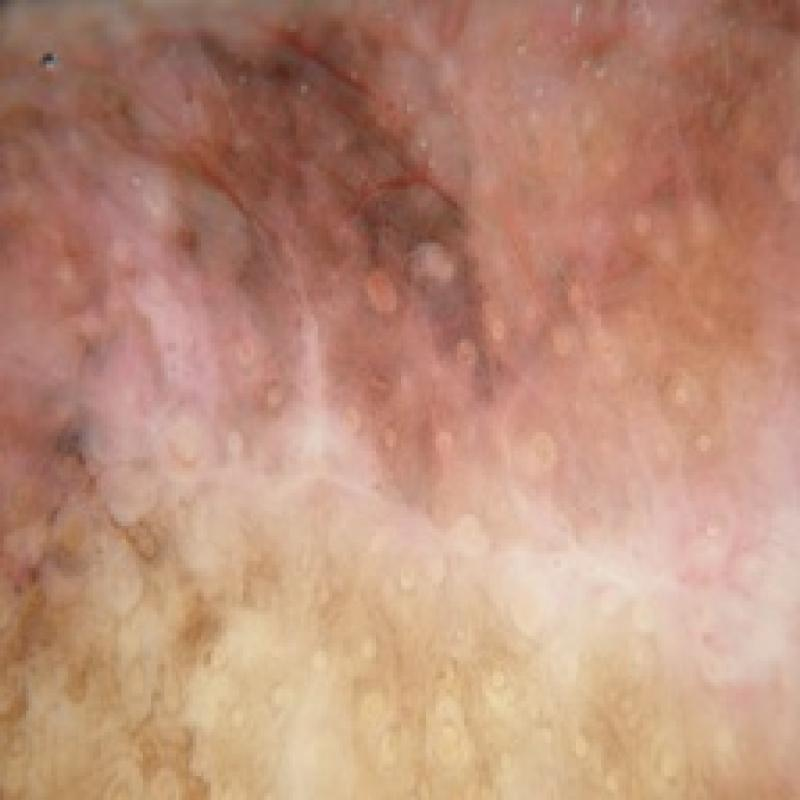malignant: (28, 5, 586, 549)
